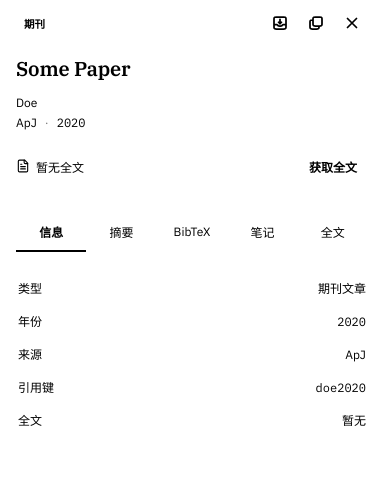
Test case: RefDetail upload tracking › does not resurrect a terminal upload when late WS queued/running frames arrive
The image size is (385, 498).
What coordinates should you click on to do the following:
click the tab "全文"
I would click on:
 (333, 233)
Its box is x1=298 y1=214 x2=368 y2=252.
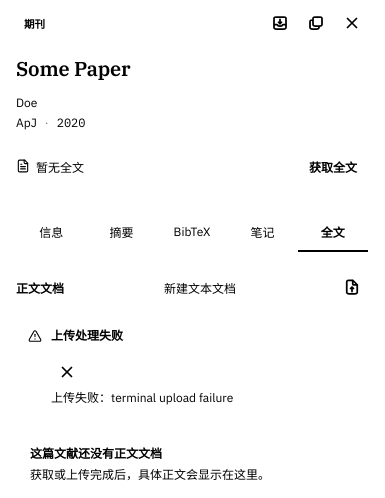
Check: the text "上传失败：terminal upload failure" is shown, box x1=51 y1=388 x2=233 y2=407
